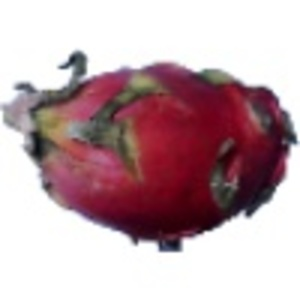pitaia: (1, 49, 300, 253)
